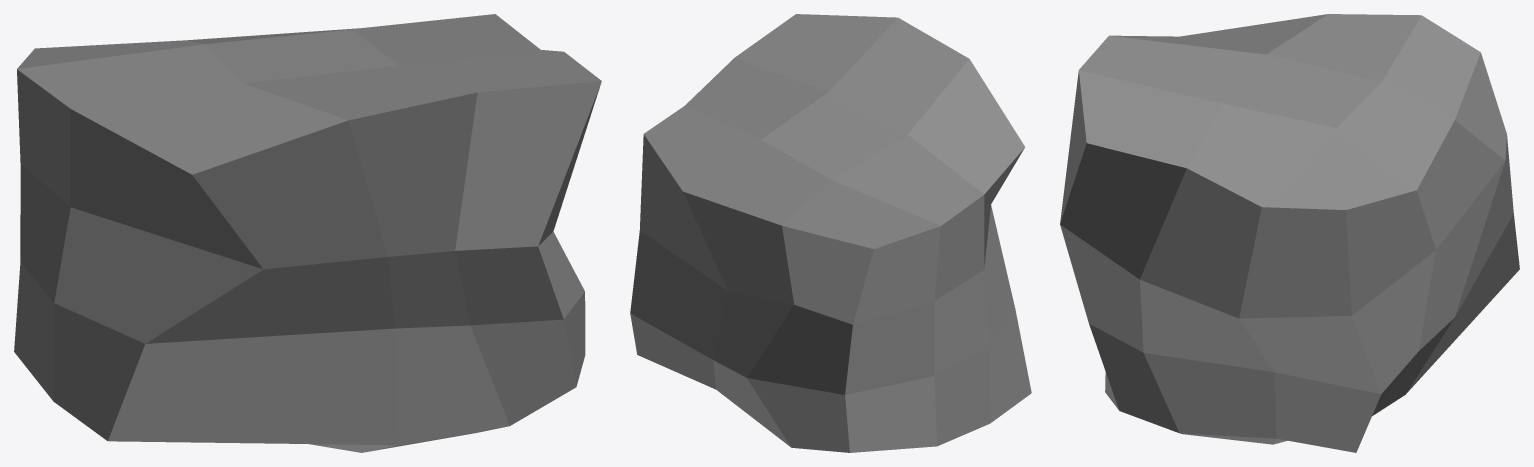
Rendered from roccia5.obj.
3 views of the same model, side by side, from view 1: azimuth 30°, elevation 25°; view 2: azimuth 150°, elevation 25°; view 3: azimuth 270°, elevation 25° (orthographic). The views are drawn at different scales.
Parts seen in each view (by area): view 1: Rock_15.001; view 2: Rock_15.001; view 3: Rock_15.001.
Part boxes in pixels (x1,y1,x2,y2): Rock_15.001: (14, 14, 601, 452); Rock_15.001: (630, 14, 1031, 452); Rock_15.001: (1060, 14, 1519, 452).
Bounding box in the file's own units: 3.26 × 2.87 × 3.33.
1 material, 1 textured.
